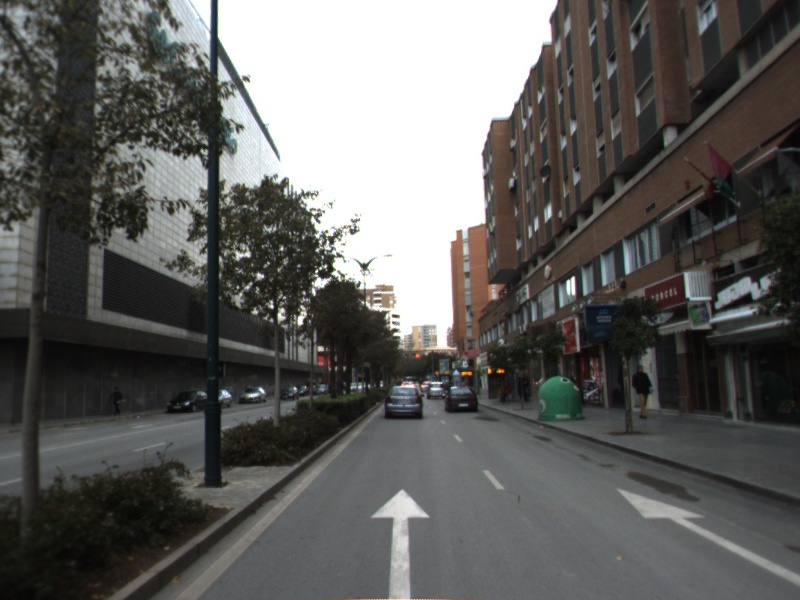STRAIGHT: (614, 484, 800, 586), (367, 486, 434, 600)
